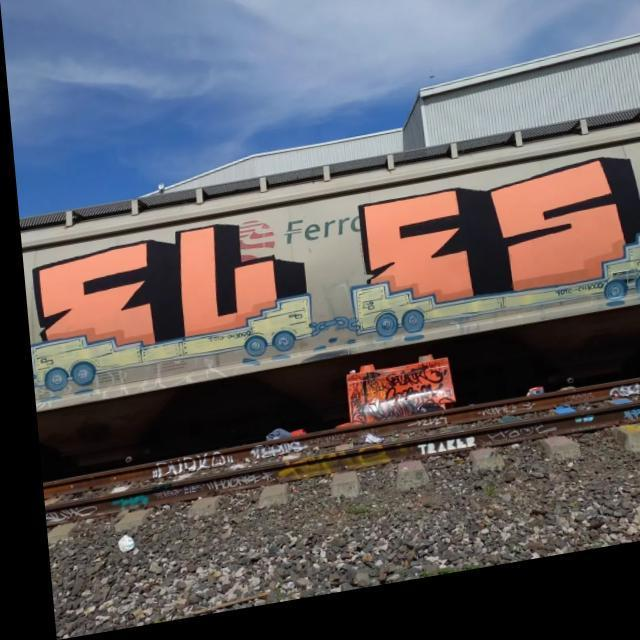-: (350, 170, 640, 349), (24, 213, 306, 394), (480, 436, 550, 463), (142, 458, 212, 484), (409, 445, 472, 473), (378, 376, 436, 406), (36, 502, 91, 528), (466, 414, 525, 438), (240, 447, 299, 470), (613, 418, 640, 444)
